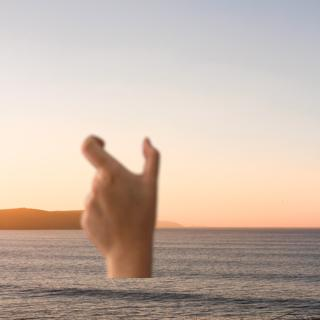Irritated: (73, 131, 171, 273)
